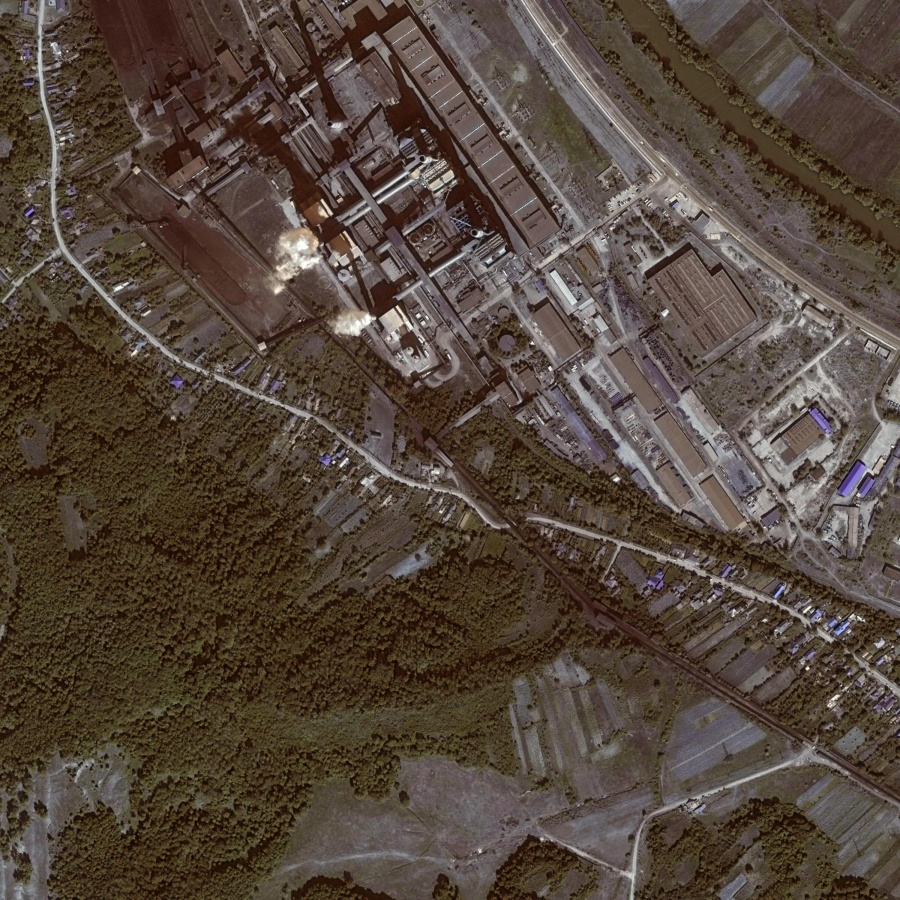PowerPlant: (159, 136, 374, 365)
